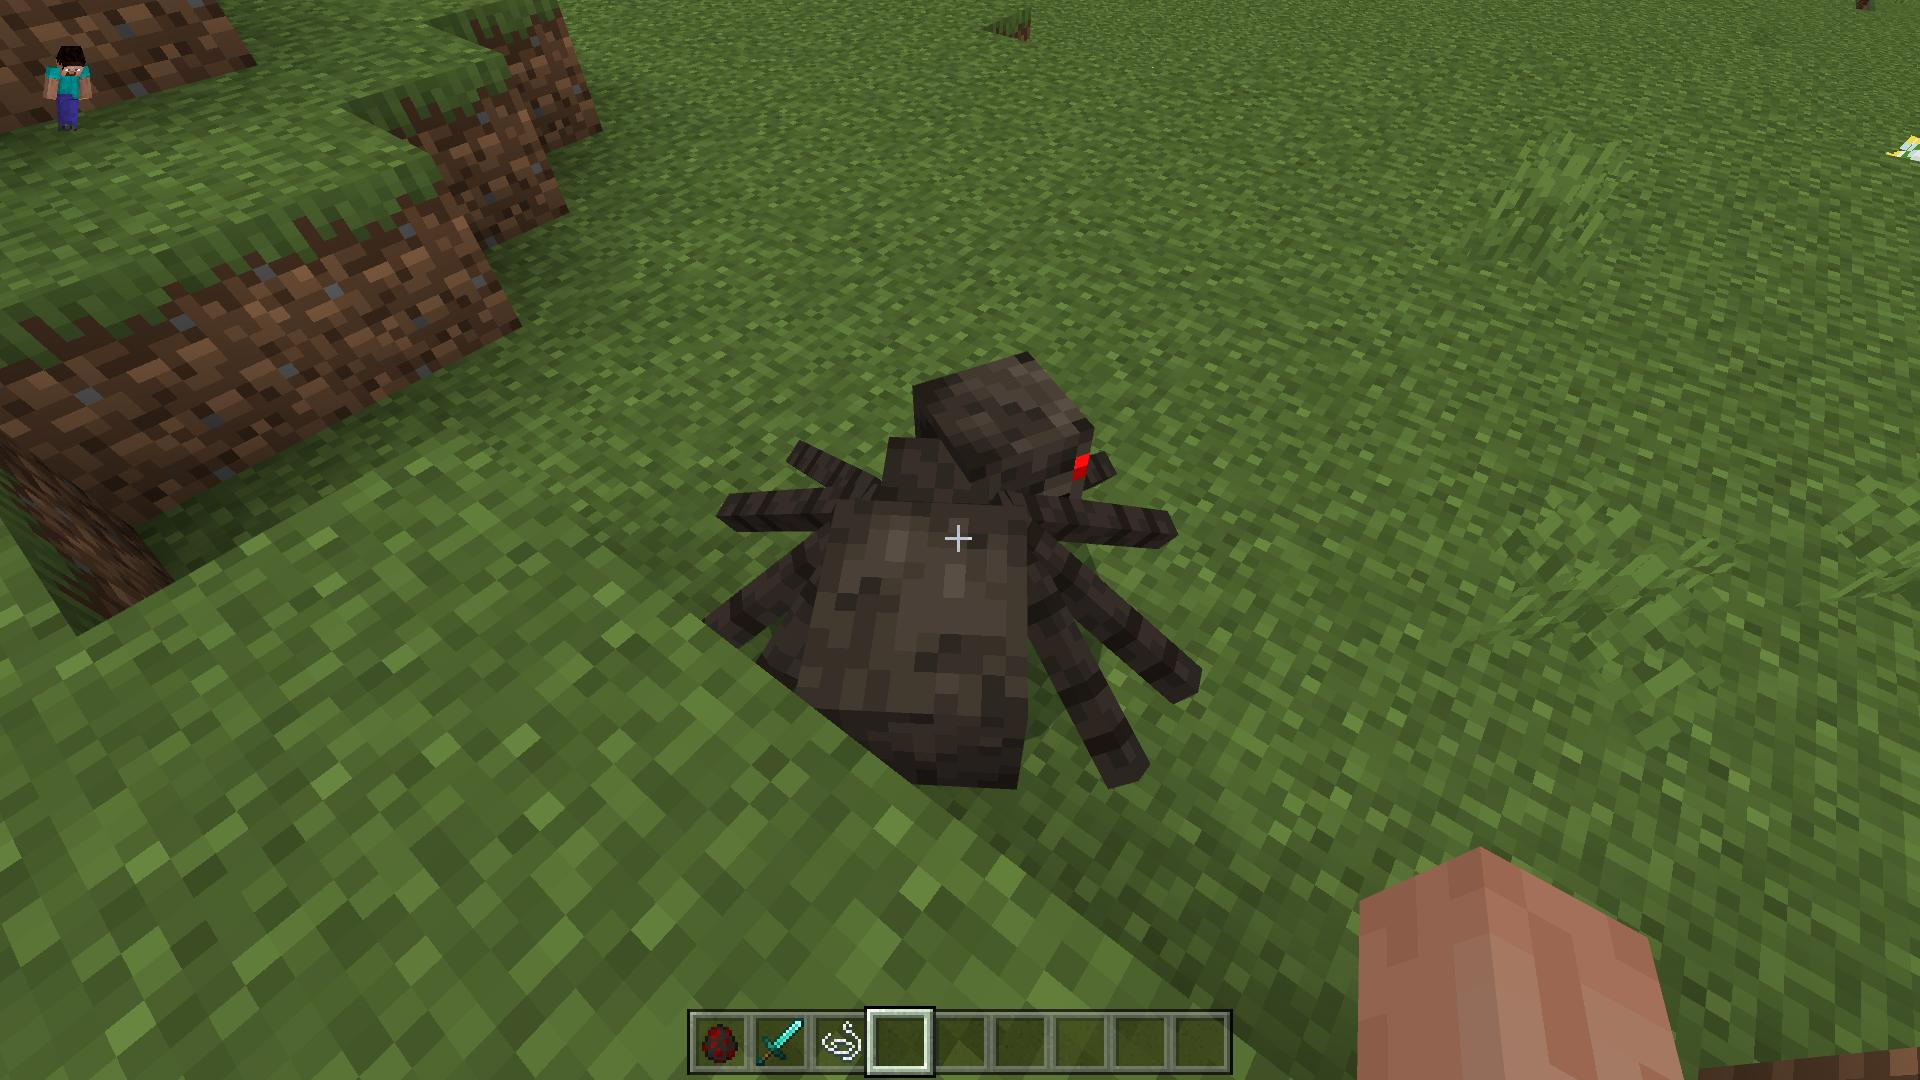spider: (692, 347, 1205, 802)
